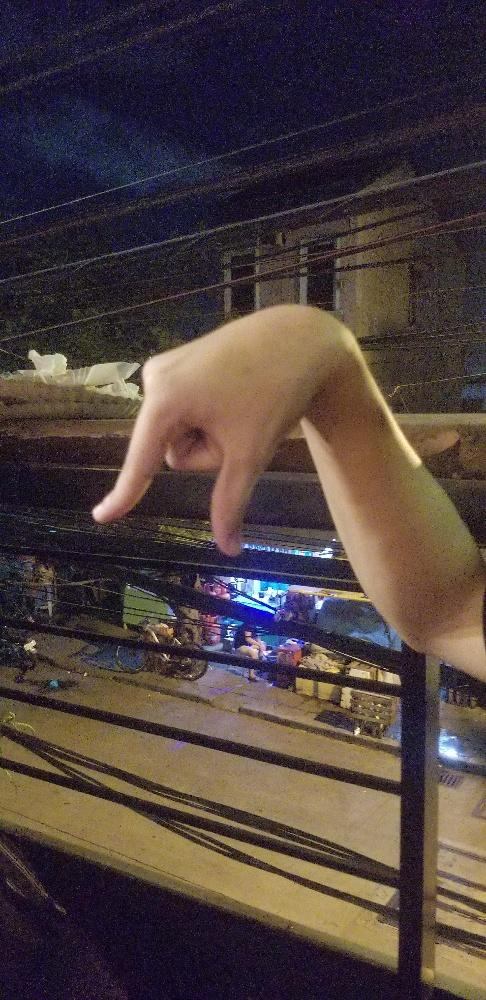q: (86, 299, 346, 556)
